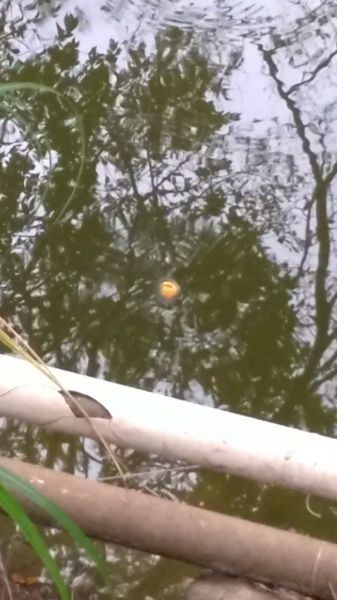eggs: (155, 278, 183, 300)
